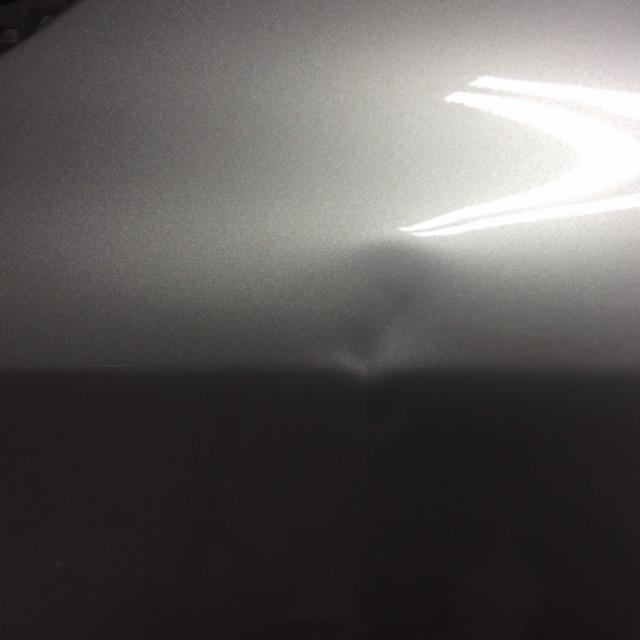dents: (328, 241, 437, 391)
